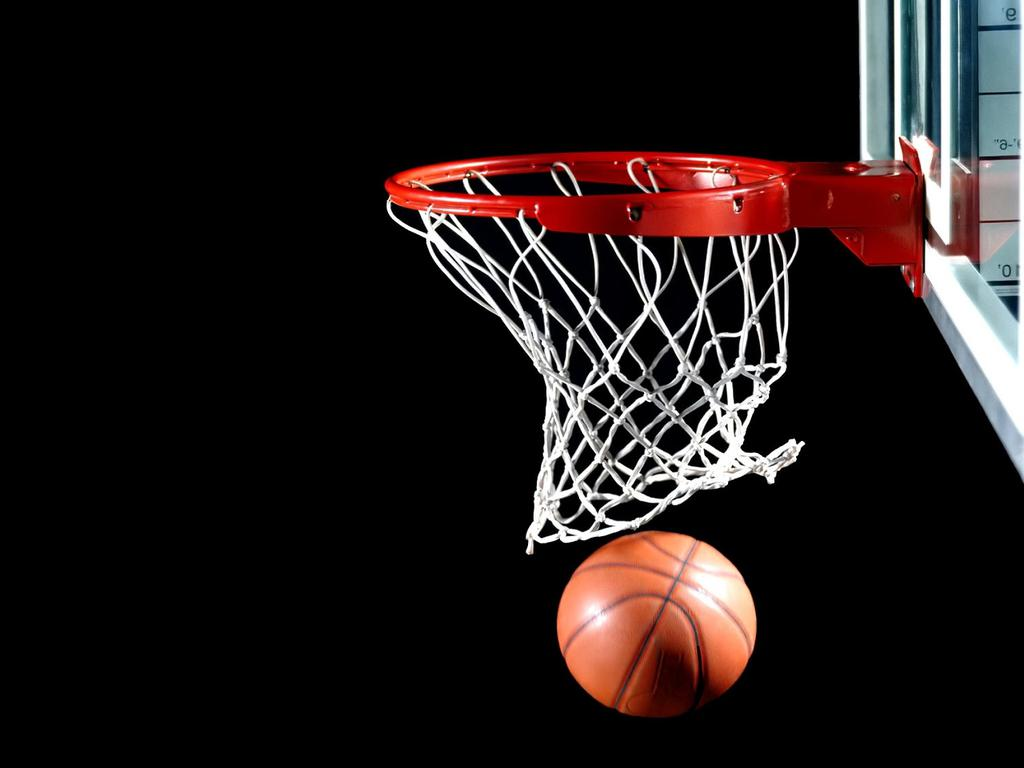Ball: (558, 531, 757, 719)
